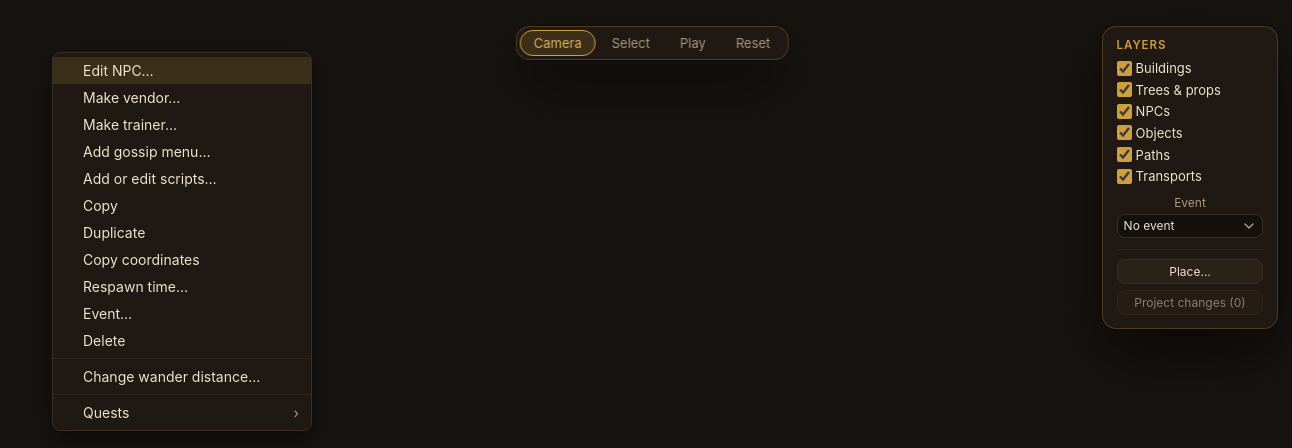
Test: the right-click menu in the 3D view › says so and does nothing when the right-clicked spawn has gone
The image size is (1292, 448).
Step 1. Click the menu item "Change wander distance…" → (182, 376), box [53,363,311,390]
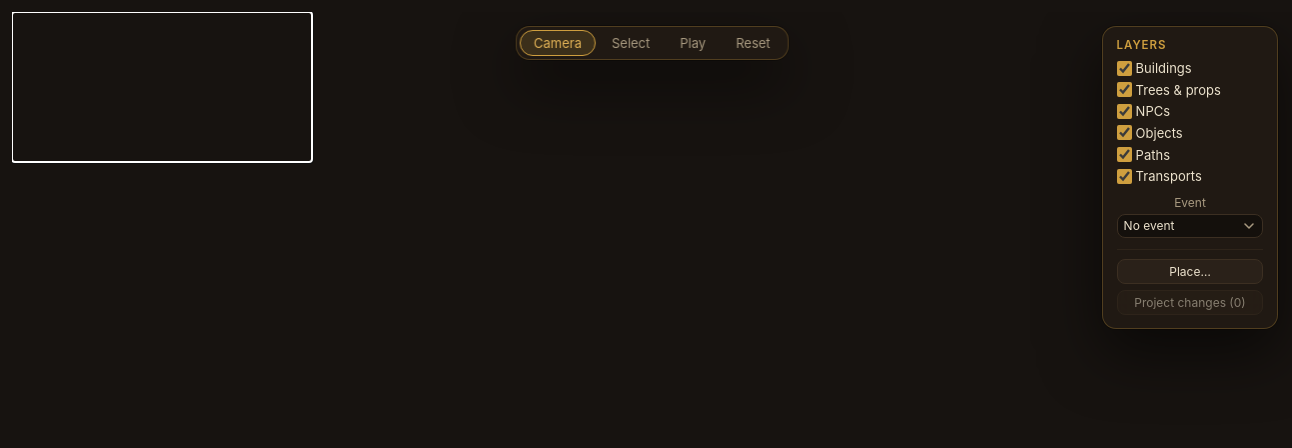
Check: the menu item "wander distance" is gone
